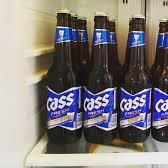beer: (46, 8, 165, 146)
